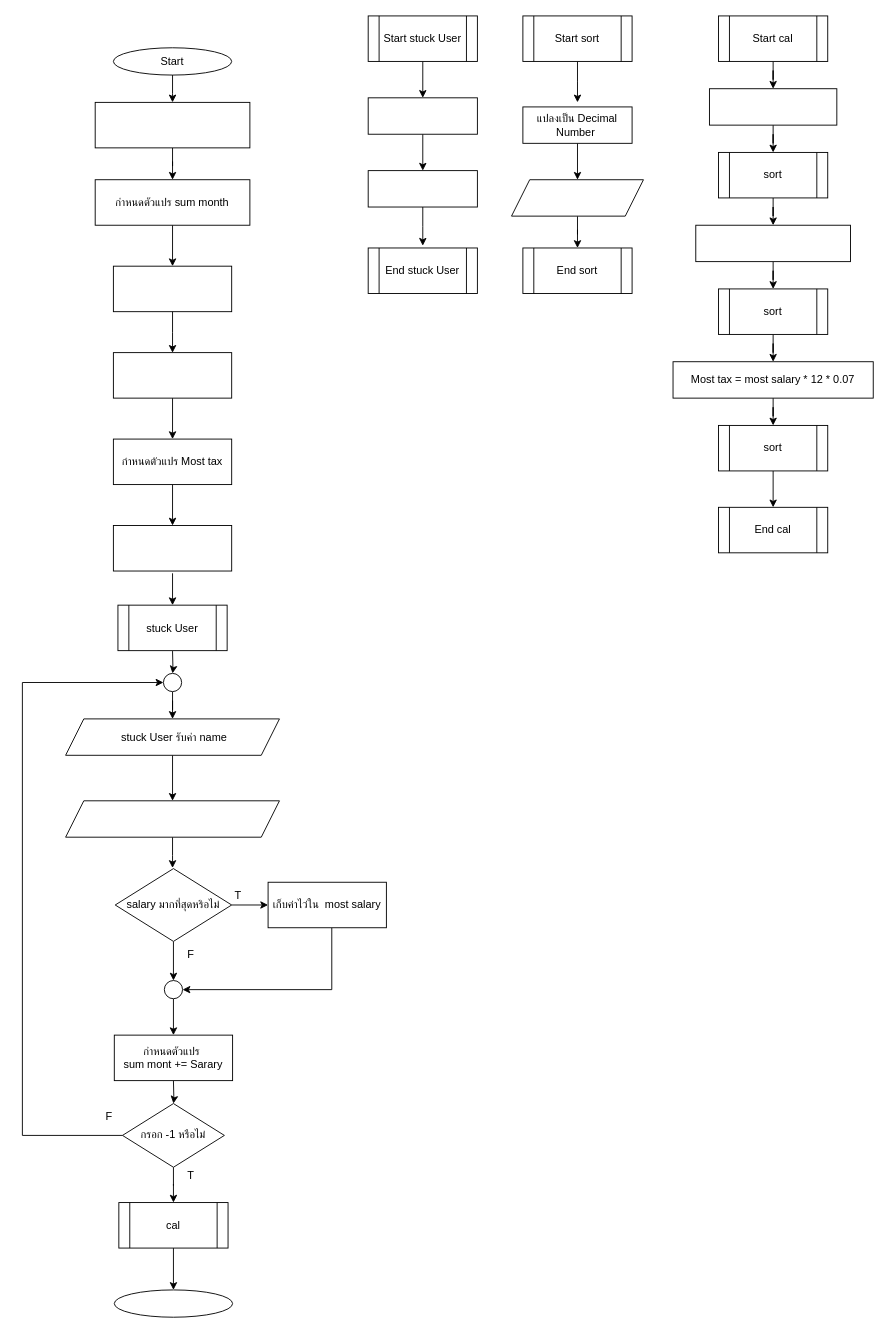
The diagram is 889 pixels wide and 1333 high, and some of its shapes have lost their labels. The shapes that lost their labels are listed below. From the top down, each one's box as (x1, y1, x2, y2) in pixels, then its label:
(94, 101, 250, 148): กำหนดตัวแปร most salary
(367, 97, 477, 134): กำหนดค่า Name
(709, 88, 837, 125): sum year *= 12
(367, 170, 477, 207): กำหนดค่า Sarary
(511, 179, 643, 216): ปริ้นที่แปลงออกมา
(695, 224, 850, 262): Tax = sumyear * 0.07
(112, 265, 232, 312): กำหนดตัวแปร sum year
(112, 352, 232, 398): กำหนดตัวแปร Tax
(112, 525, 232, 571): กำหนดตัวแปร arr count
(65, 800, 279, 837): stuck User รับค่า Sarary
(113, 1289, 233, 1317): End
